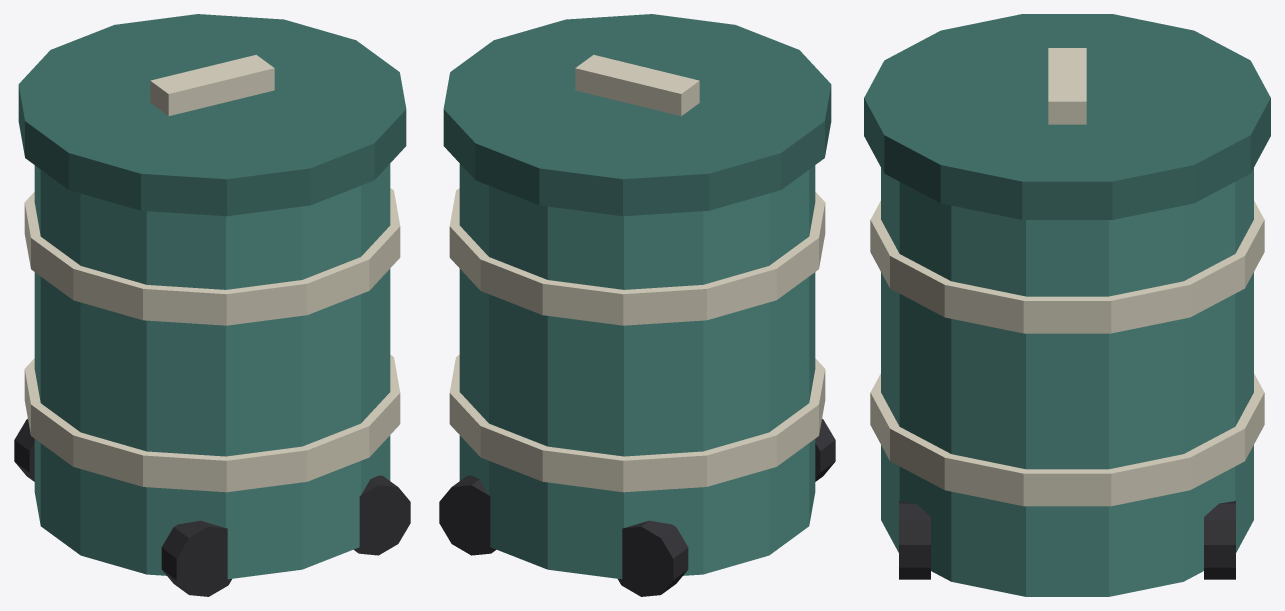
The model's file is hazard_bin.glb.
3 renders of one model, left to right at view 1: azimuth 30°, elevation 25°; view 2: azimuth 150°, elevation 25°; view 3: azimuth 270°, elevation 25°, orthographic. The views are drawn at different scales.
Visible parts, largest first — view 1: hazard_bin; view 2: hazard_bin; view 3: hazard_bin.
Boxes of the visible parts, left/top/right/bottom form: hazard_bin: left=14, top=14, right=410, bottom=596; hazard_bin: left=439, top=14, right=835, bottom=596; hazard_bin: left=864, top=14, right=1270, bottom=596.
Size of the model in its own units: 0.9359 by 1.19 by 0.96.
